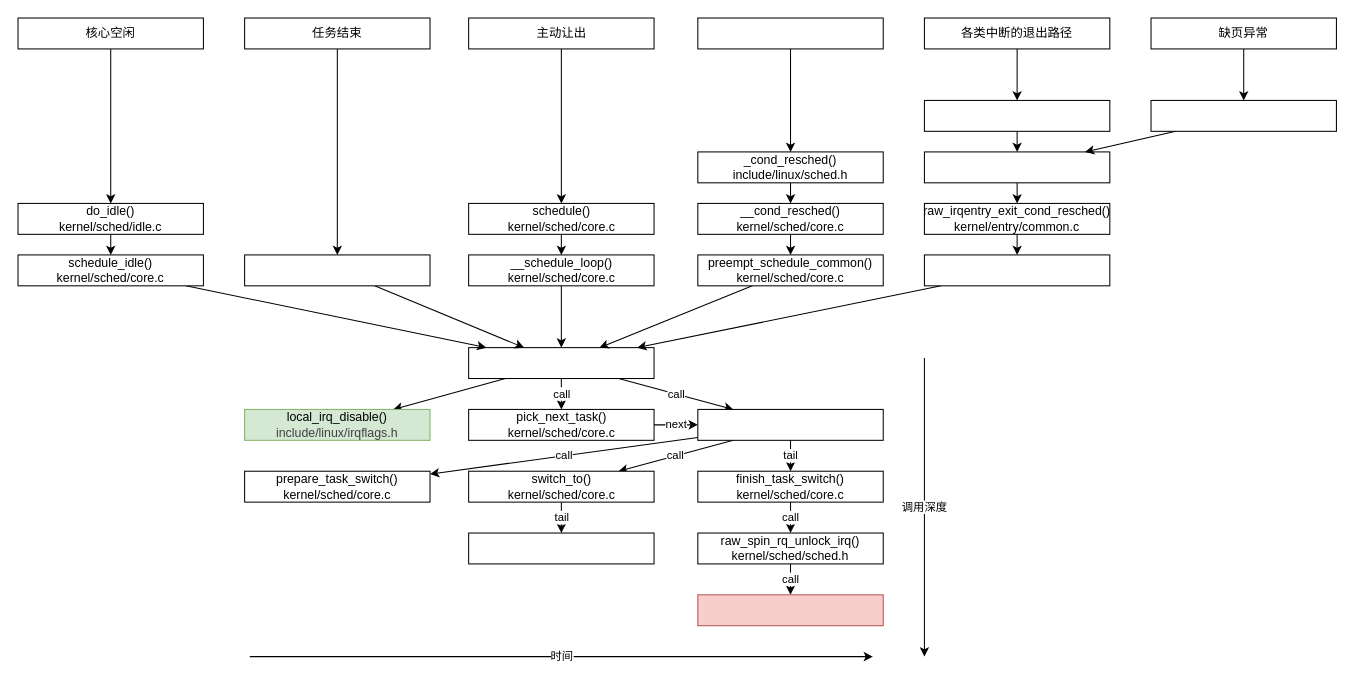
The diagram is 1354 pixels wide and 683 high, and some of its shapes have lost their labels. Each missing label, with the centre of its shape:
"__schedule() kernel/sched/core.c" belongs at (x=561, y=363).
"__switch_to() arch/riscv/kernel/entry.S" belongs at (x=561, y=548).
"context_switch() kernel/sched/core.c" belongs at (x=790, y=424).
"do_irq() arch/riscv/kernel/traps.c" belongs at (x=1016, y=115).
"do_page_fault() arch/riscv/kernel/traps.c" belongs at (x=1243, y=115).
"do_task_dead() kernel/sched/core.c" belongs at (x=337, y=270).
"irq_entry_exit() kernel/entry/common.c" belongs at (x=1016, y=167).
"local_irq_enable() include/linux/irqflags.h" belongs at (x=790, y=610).
"preempt_schedule_irq() kernel/sched/core.c" belongs at (x=1016, y=270).
"视情况调度" belongs at (x=790, y=33).
